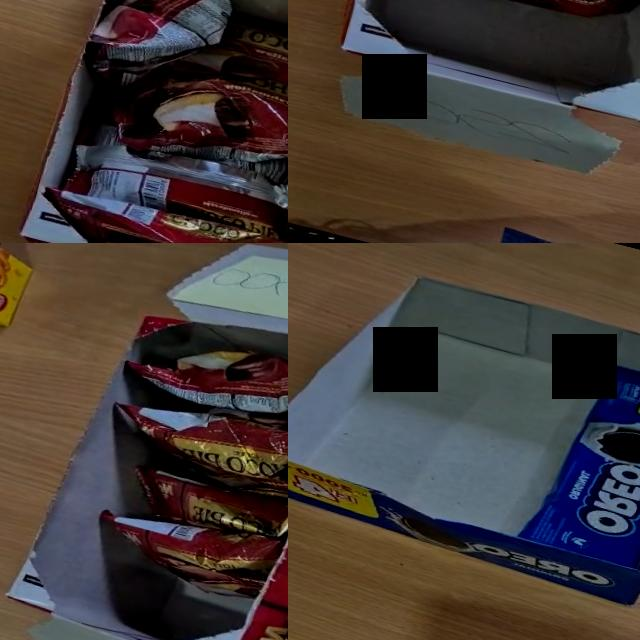Chocopie: (103, 40, 288, 193), (63, 127, 288, 243), (90, 495, 286, 606), (101, 386, 288, 501), (75, 105, 288, 197), (118, 320, 288, 430), (78, 0, 241, 107), (30, 179, 288, 243), (124, 461, 288, 549), (171, 8, 288, 106), (360, 0, 640, 36)
Oreo: (517, 350, 640, 578)
